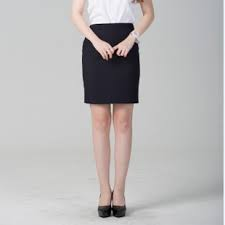F_tailored skirt: (75, 19, 146, 117)
